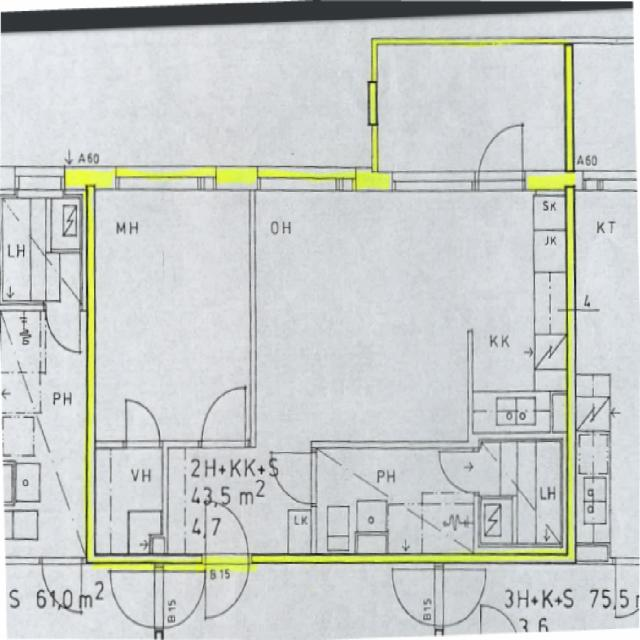door: (479, 115, 522, 191), (205, 498, 249, 563), (205, 554, 249, 618), (202, 386, 245, 447), (271, 452, 316, 504), (126, 398, 160, 448), (441, 451, 478, 492)
